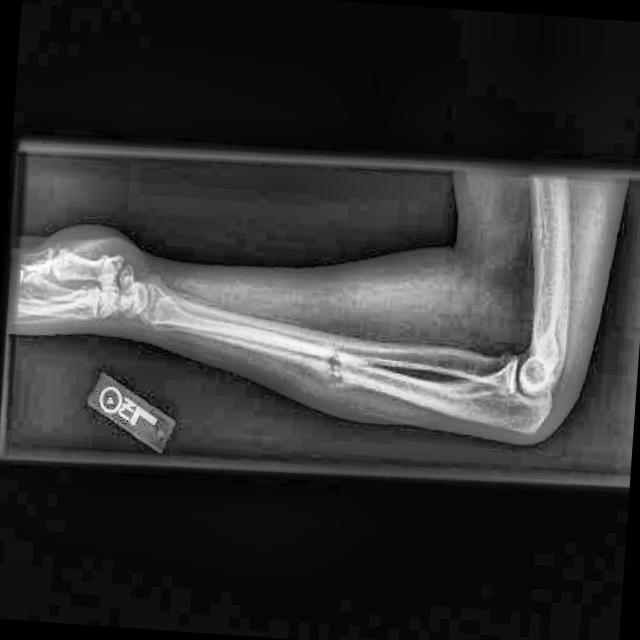forearm fracture: (303, 325, 395, 409)
